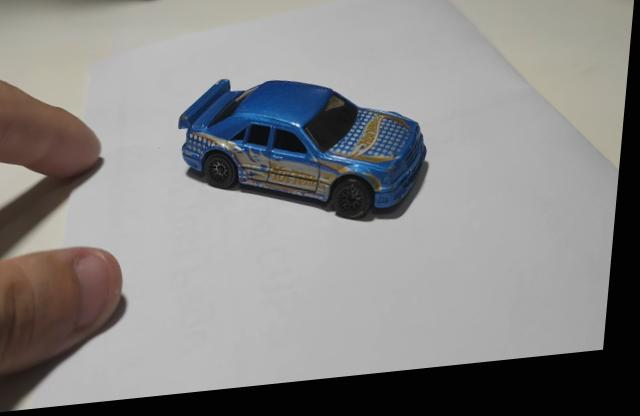04_MERZEDES: (180, 85, 433, 233)
